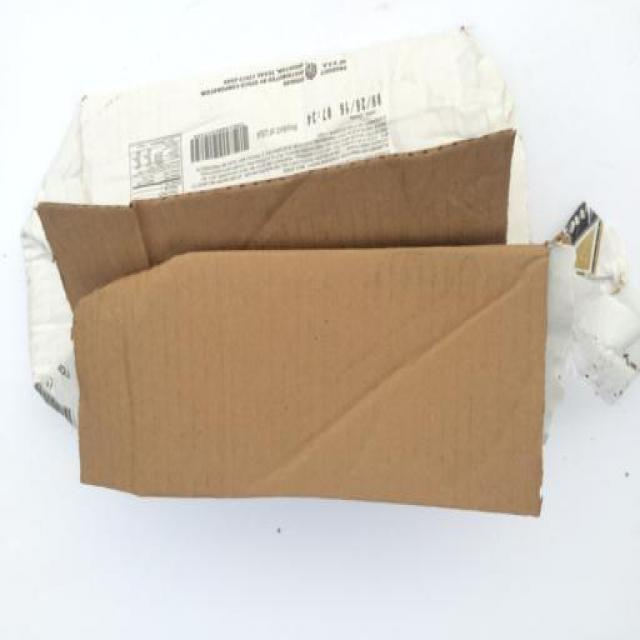cardboard: (23, 30, 640, 564)
